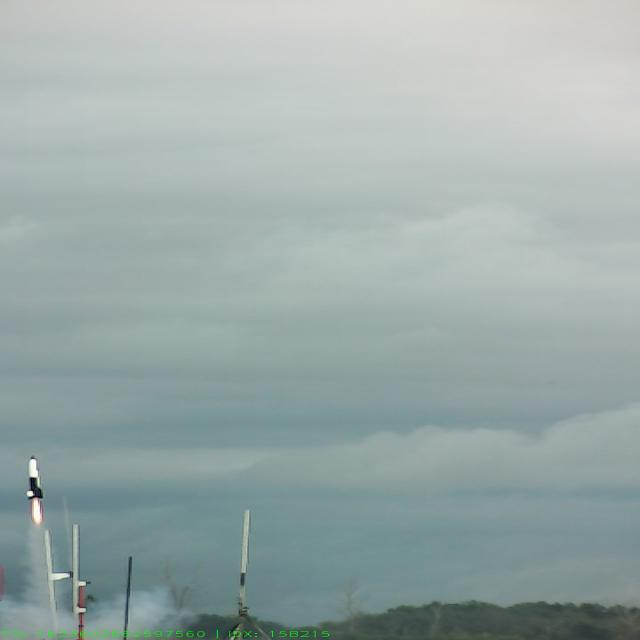Rocket: (23, 454, 45, 500)
